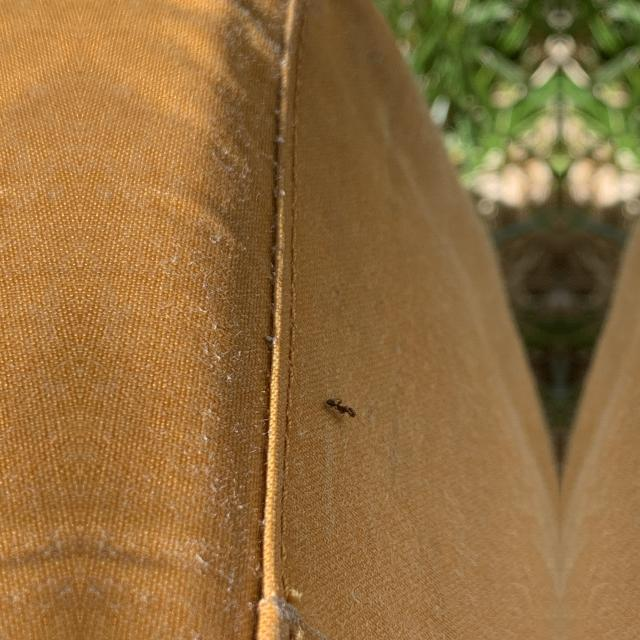Tetramorium: (322, 391, 368, 423)
